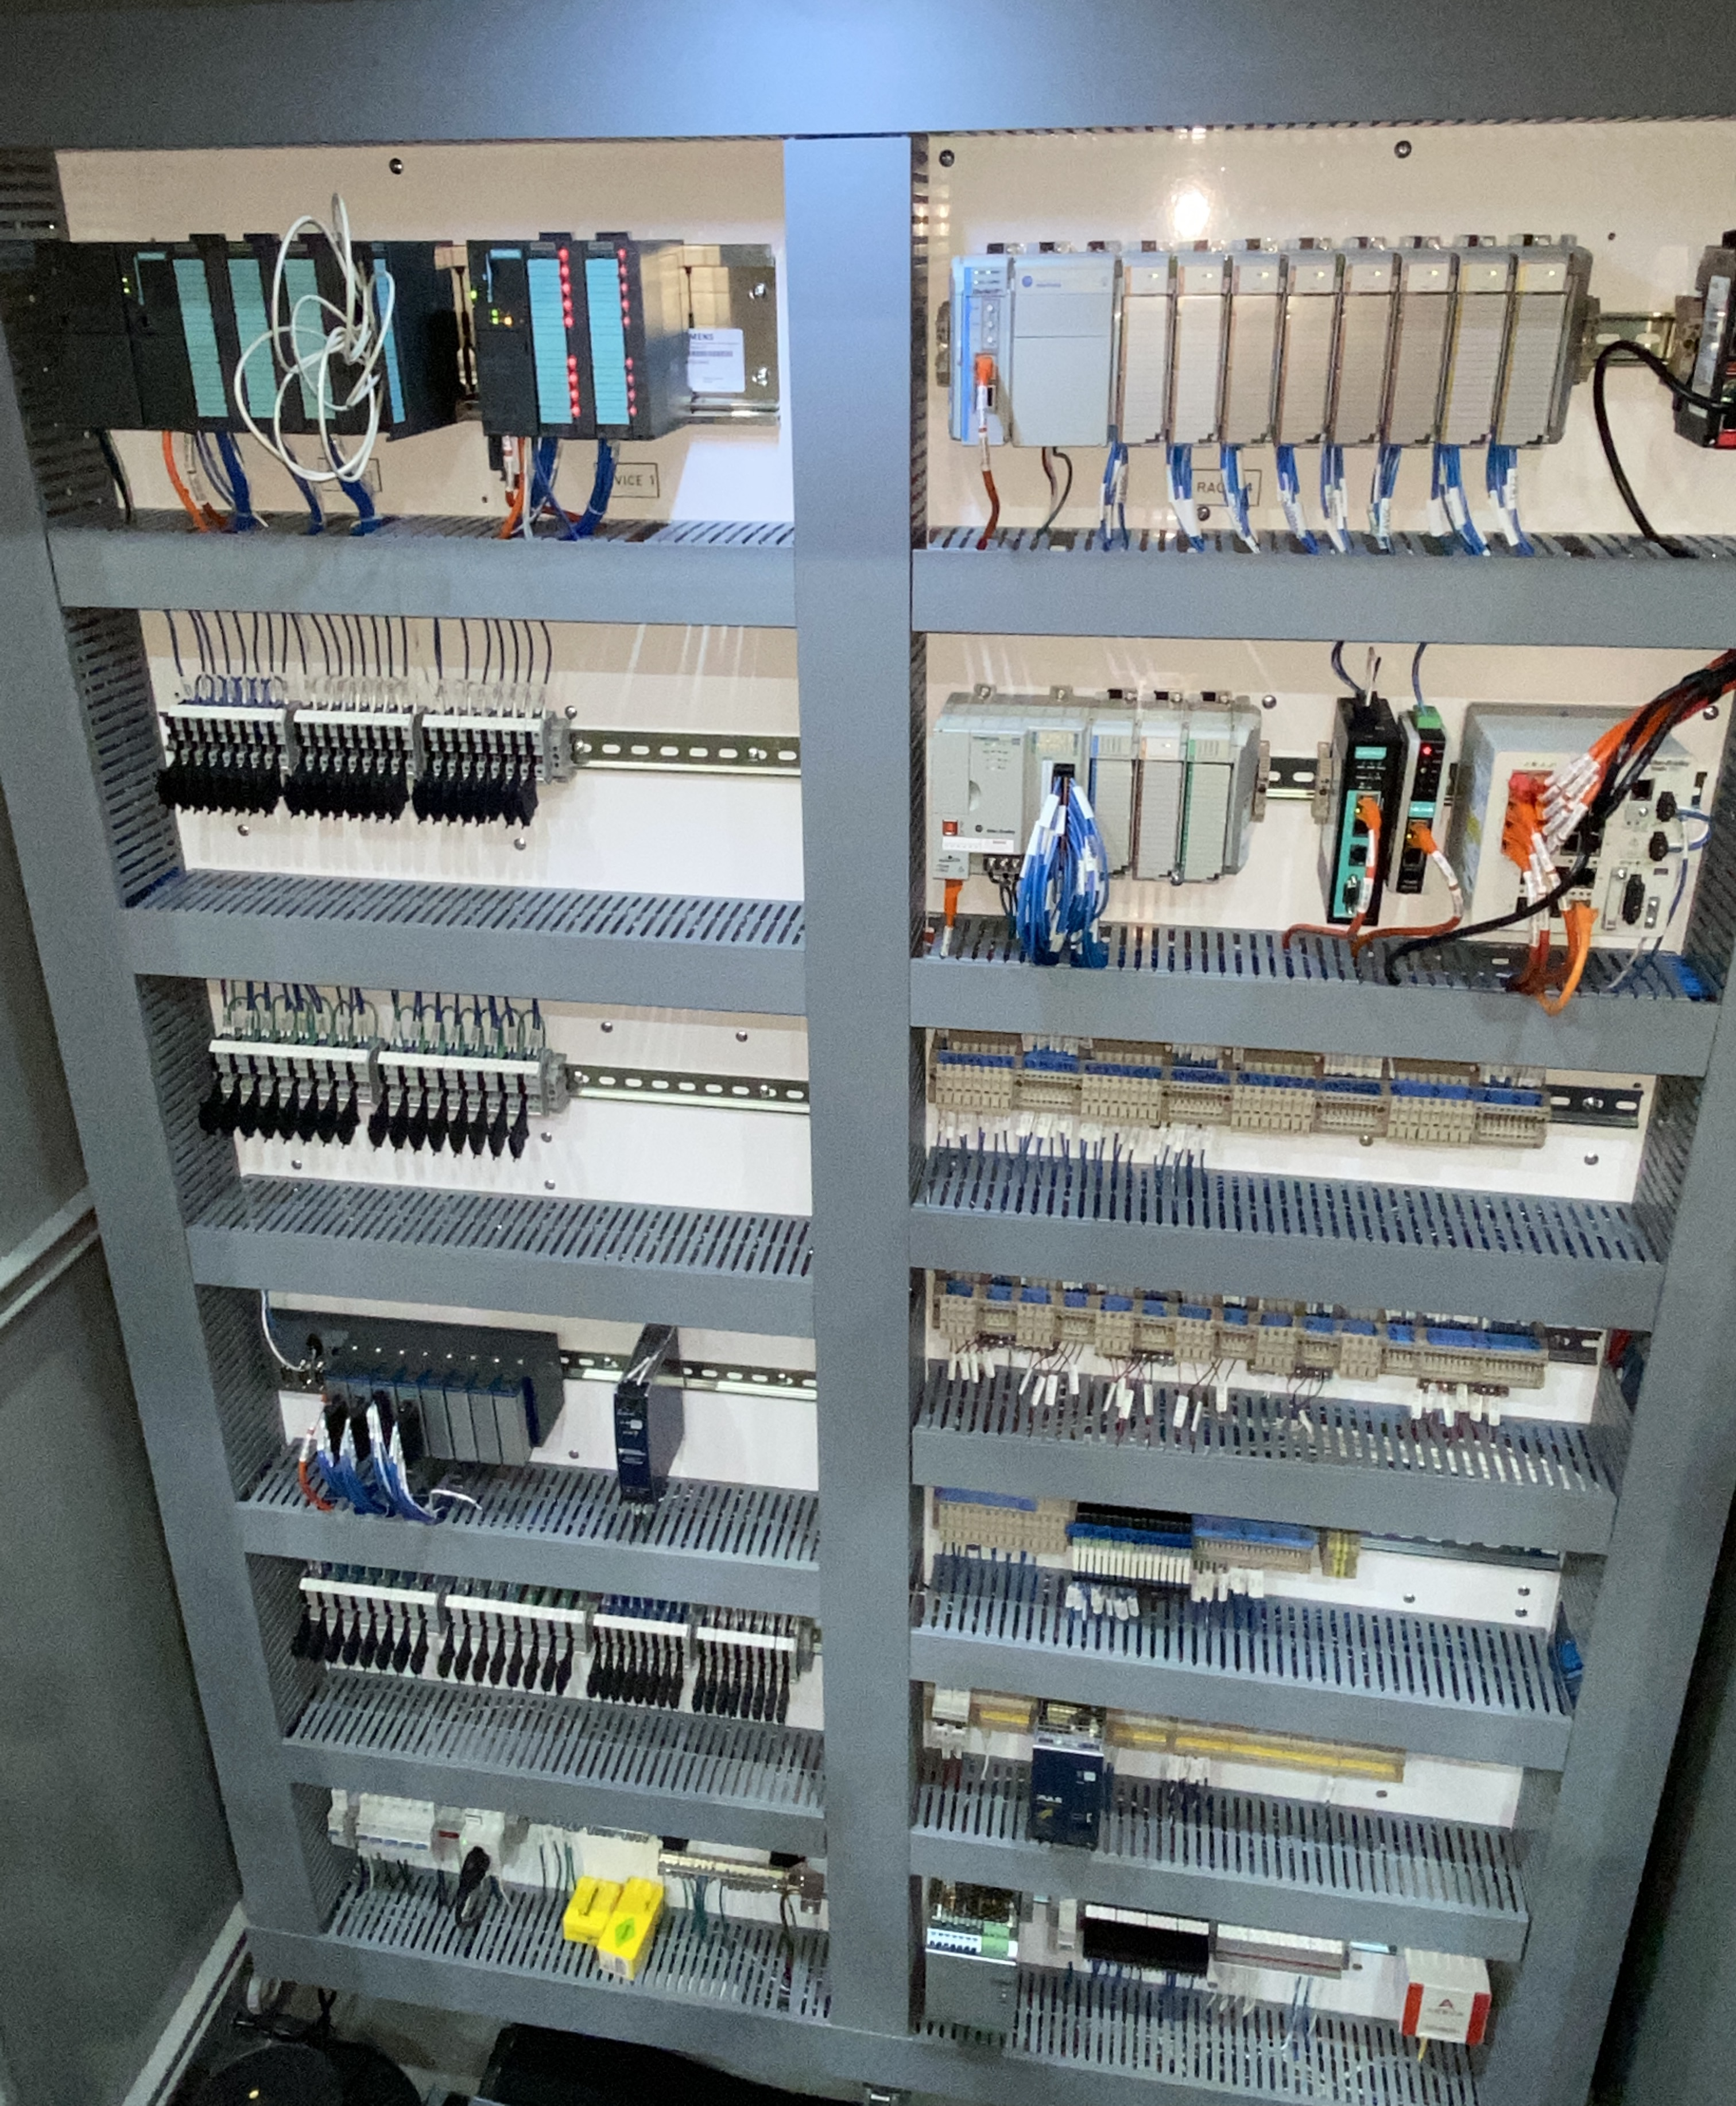AllenBradley: (924, 714, 1024, 882)
Siemens: (115, 240, 191, 432)
